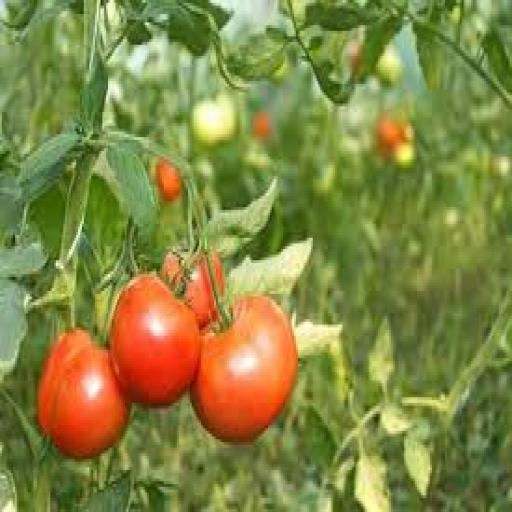tomato: (192, 297, 297, 442), (110, 275, 201, 405), (38, 331, 130, 458), (162, 252, 217, 327), (192, 96, 236, 145), (377, 115, 413, 156), (377, 45, 402, 86), (155, 160, 180, 201), (252, 112, 271, 142), (395, 143, 415, 170), (349, 42, 363, 78)
